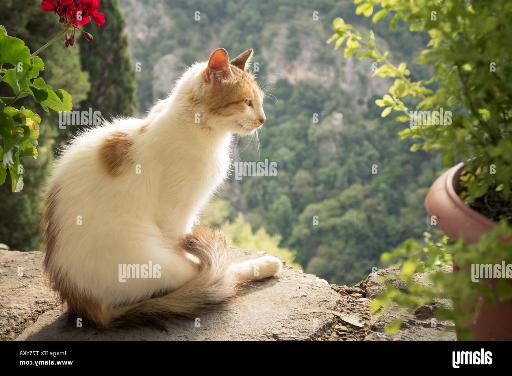cat_sitting: (44, 48, 281, 327)
